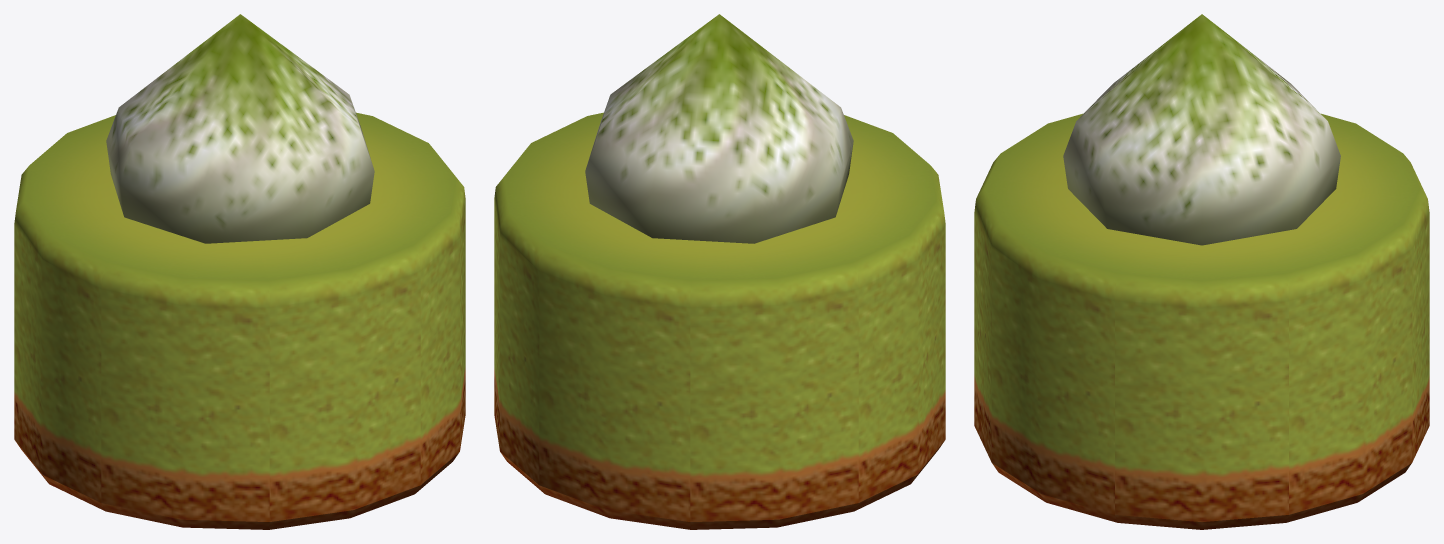
The model's file is 008-Cheesecake_05.FBX.
3 views of the same model, side by side, from view 1: azimuth 30°, elevation 25°; view 2: azimuth 150°, elevation 25°; view 3: azimuth 270°, elevation 25° (orthographic).
Parts seen in each view (by area): view 1: 008-Cheesecake_05; view 2: 008-Cheesecake_05; view 3: 008-Cheesecake_05.
Boxes of the visible parts, box(x1,y1,x2,y2) form: 008-Cheesecake_05: box(14, 14, 465, 529); 008-Cheesecake_05: box(494, 14, 945, 529); 008-Cheesecake_05: box(974, 14, 1429, 529).
Bounding box in the file's own units: 12.38 × 12.7 × 12.38.
